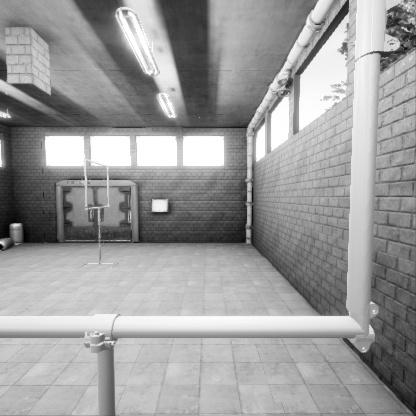gate: (84, 208, 109, 259)
